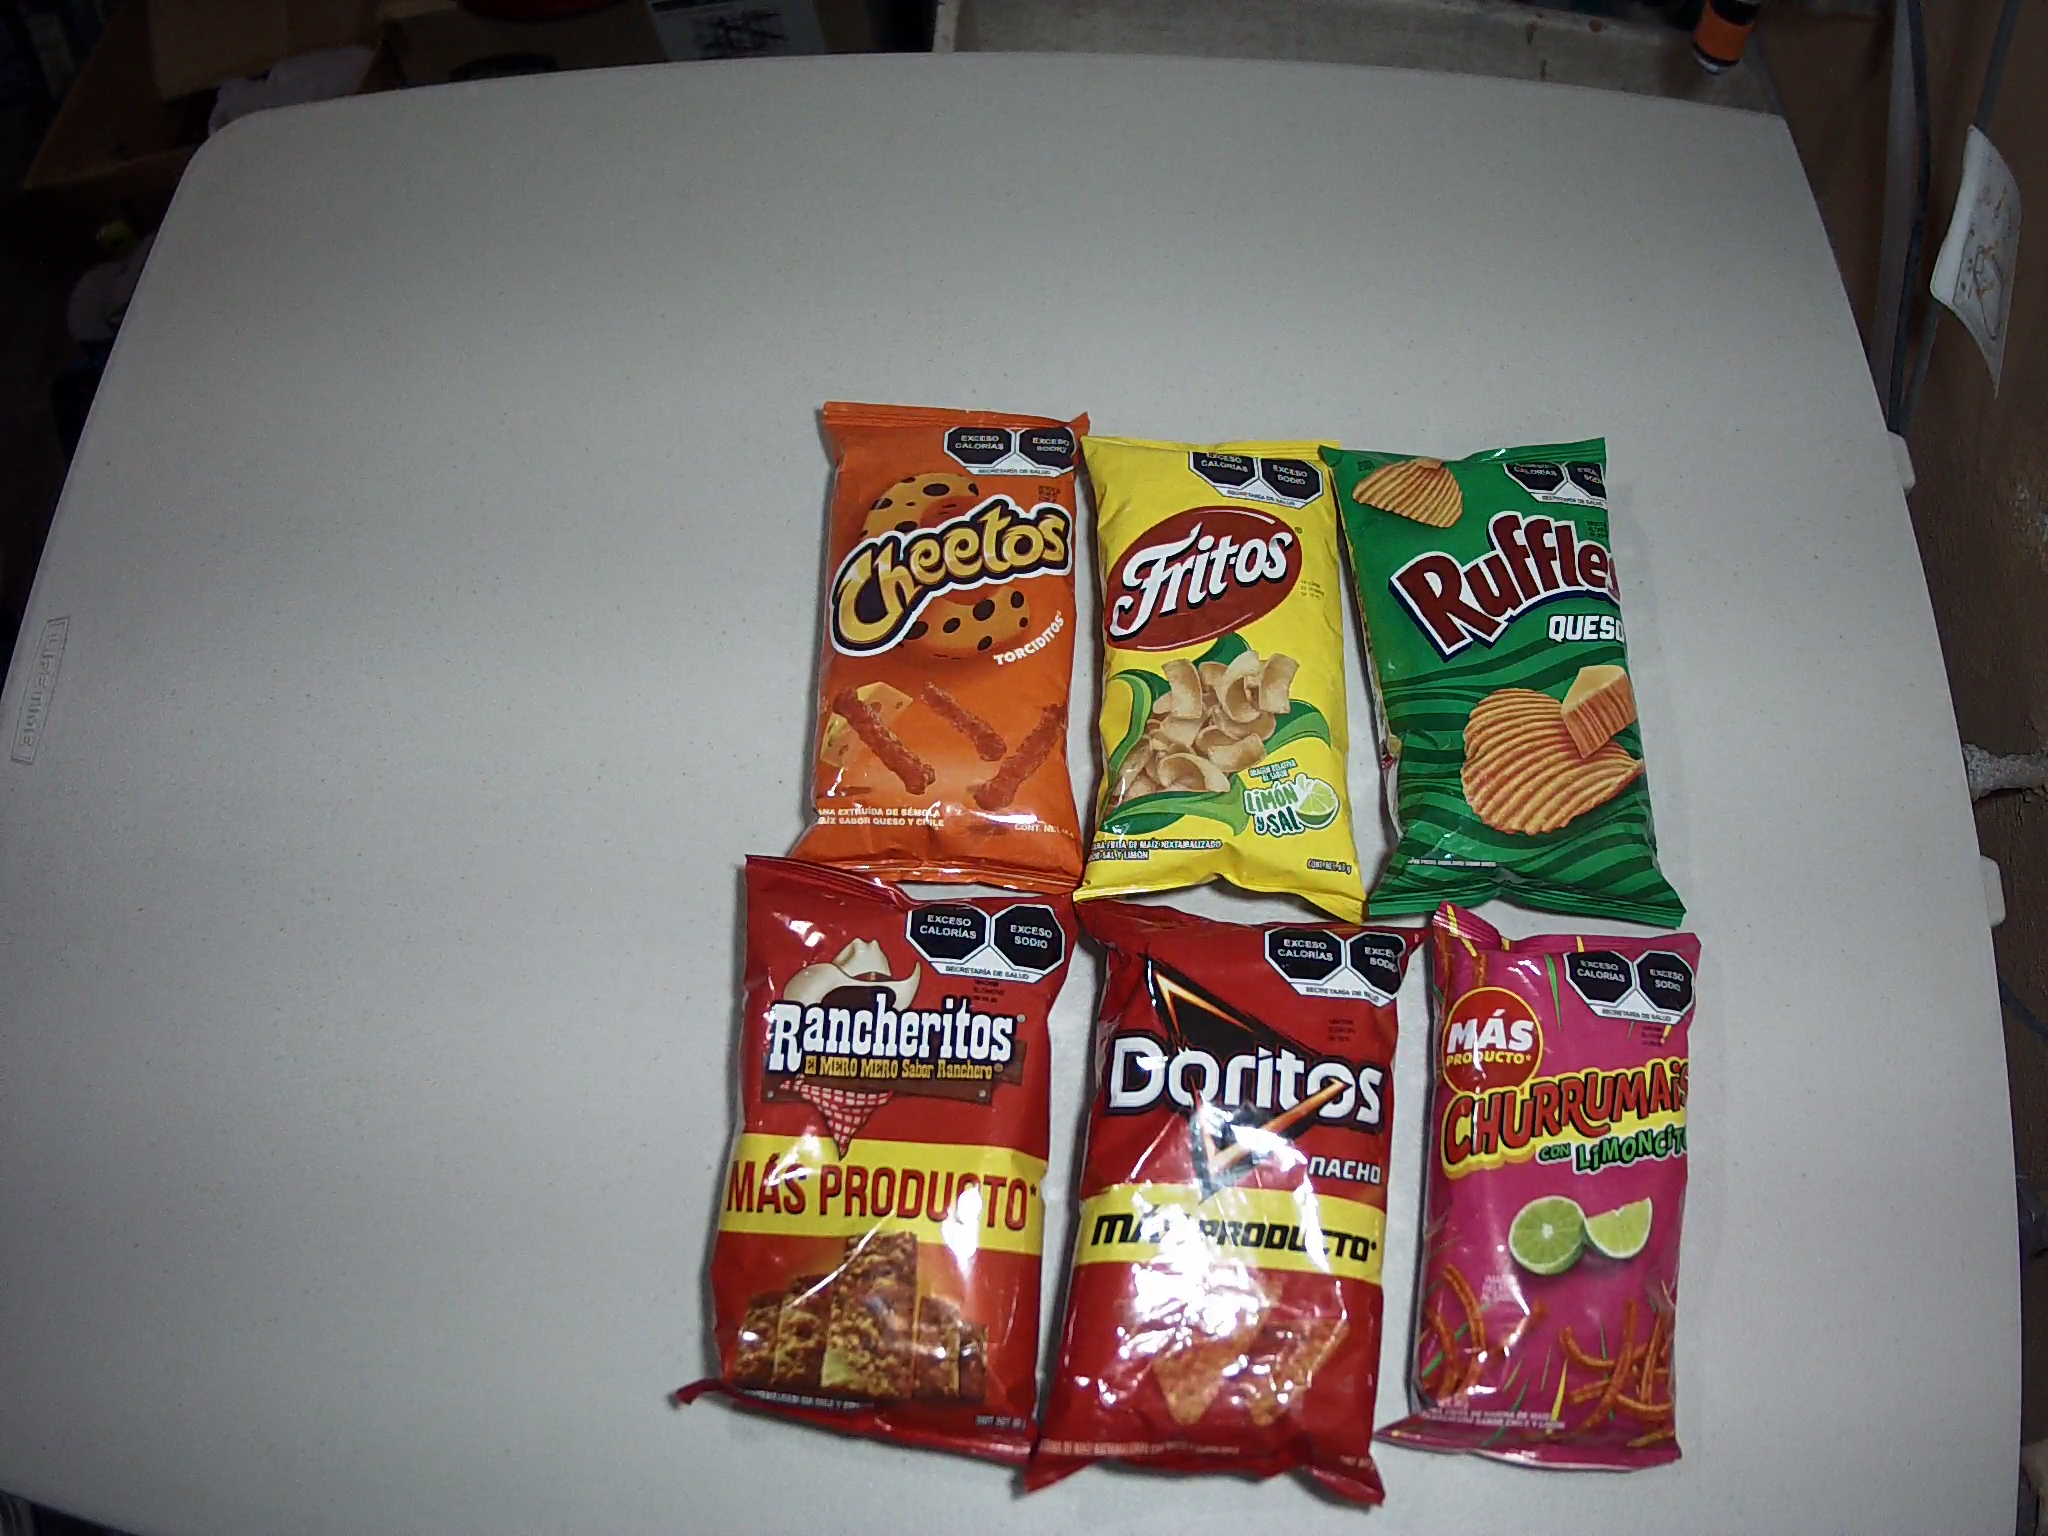CheetosTorciditos_55_F: (789, 402, 1089, 895)
Churrumais_70_F: (1408, 900, 1705, 1470)
DoritosN_61_F: (1047, 897, 1424, 1509)
FritosSalLimon_65_F: (1068, 432, 1361, 926)
Rancheritos_58_F: (676, 857, 1079, 1467)
RufflesQ_48_F: (1317, 437, 1692, 926)
